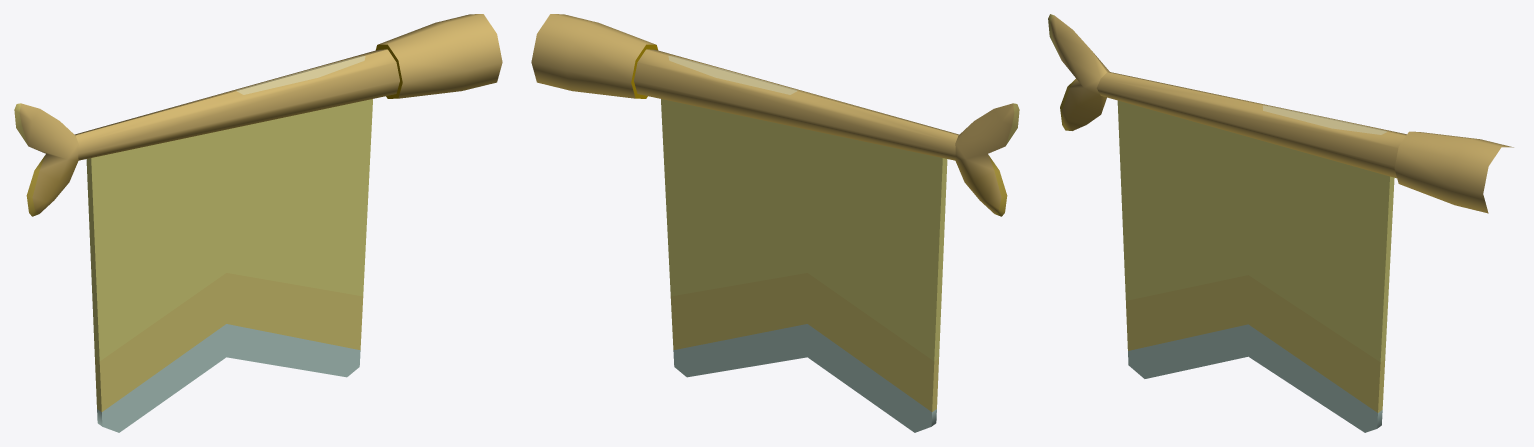
Rendered from TrainStationFlagYellow.glb.
3 views of the same model, side by side, from view 1: azimuth 30°, elevation 25°; view 2: azimuth 150°, elevation 25°; view 3: azimuth 330°, elevation 25° (orthographic). The views are drawn at different scales.
Parts seen in each view (by area): view 1: TrainStationFlagYellow; view 2: TrainStationFlagYellow; view 3: TrainStationFlagYellow.
Boxes of the visible parts, x1,y1,x2,y2 form: TrainStationFlagYellow: (14,14,502,432); TrainStationFlagYellow: (531,14,1019,432); TrainStationFlagYellow: (1048,14,1513,432).
Size of the model in its own units: 1.73 by 1.24 by 0.2421.
